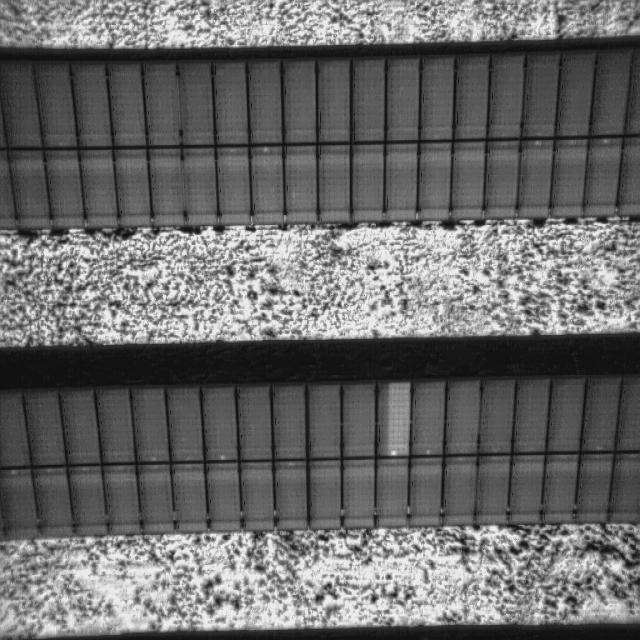diode: (385, 382, 410, 460)
